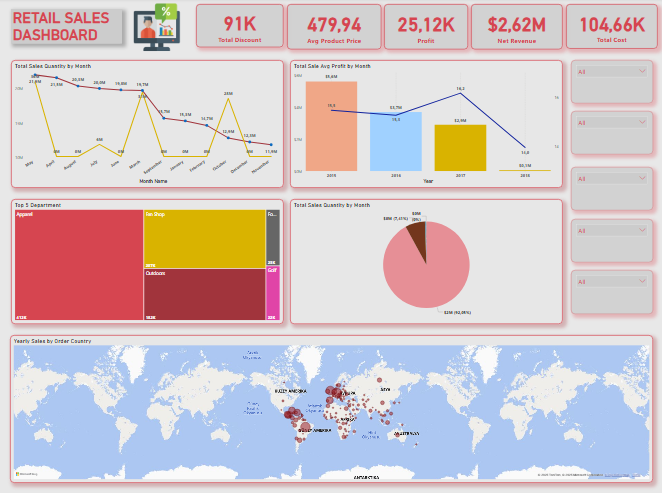

The page's visual inventory and layout, read from the dashboard file:
{"tool":"powerbi","page":{"name":"Sales","canvas":[1930,1450],"ordinal":1},"visuals":[{"type":"textbox","title":"RETAIL SALES DASHBOARD","box":[37,33.3,322.2,100],"z":0},{"type":"card","fields":{"Values":["_Measures.Total Discount"]},"box":[574.3,17.1,254.3,125.7],"z":1000},{"type":"card","fields":{"Values":["_Measures.Avg Product Price"]},"box":[838,18,274,132],"z":2000},{"type":"card","fields":{"Values":["_Measures.Profit"]},"box":[1120,18,244,132],"z":3000},{"type":"card","fields":{"Values":["_Measures.Net Revenue"]},"box":[1372,18,266,132],"z":4000},{"type":"slicer","fields":{"Values":["income_2024.category_name"]},"box":[1661.5,328.2,238.5,125.6],"z":5000},{"type":"slicer","fields":{"Values":["income_2024.order_country"]},"box":[1661.5,489.7,238.5,125.6],"z":6000},{"type":"slicer","fields":{"Values":["income_2024.customer_segment"]},"box":[1661.5,641,238.5,125.6],"z":7000},{"type":"slicer","fields":{"Values":["Calendar.Year"]},"box":[1661.5,179.5,238.5,125.6],"z":8000},{"type":"slicer","fields":{"Values":["income_2024.order_region"]},"box":[1661.5,789.7,238.5,128.2],"z":9000},{"type":"lineChart","title":"Total Sales Quantity by Month ","fields":{"Y":["_Measures.Total Sales2"],"Category":["Calendar.Month Name"],"Y2":["_Measures.Total Quantity"]},"box":[37.1,180,791.4,371.4],"z":10000},{"type":"lineClusteredColumnComboChart","title":"Total Sale Avg Profit by Month","fields":{"Category":["Calendar.Year"],"Y":["_Measures.Monthly Sale"],"Y2":["_Measures.Avg profit per Order"]},"box":[845.7,180,791.4,371.4],"z":11000},{"type":"treemap","title":"Top 5 Department","fields":{"Group":["income_2024.department_name"],"Values":["_Measures.Yearly Sales"]},"box":[37.1,582.9,791.4,362.9],"z":12000},{"type":"pieChart","title":"Total Sales Quantity by Month ","fields":{"Category":["Calendar.Year-Month"],"Y":["_Measures.Net Revenue"]},"box":[845.7,582.9,791.4,362.9],"z":13000},{"type":"map","title":"Yearly Sales by Order Country","fields":{"Category":["income_2024.order_country"],"Size":["_Measures.Yearly Sales"]},"box":[35.3,976.5,1864.7,429.4],"z":14000},{"type":"card","fields":{"Values":["_Measures.Total Cost"]},"box":[1646,18,266,130],"z":15000},{"type":"image","box":[311.1,7.4,300,151.9],"z":16000}]}

Visuals, with their boxes in screenshot pixels (x1, y1, x2, y2), scaled from the page's 1930x1450 canvas onto the 662x493 screenshot:
"RETAIL SALES DASHBOARD" textbox: 13/11/123/45
card - _Measures.Total Discount: 197/6/284/49
card - _Measures.Avg Product Price: 287/6/381/51
card - _Measures.Profit: 384/6/468/51
card - _Measures.Net Revenue: 471/6/562/51
slicer - income_2024.category_name: 570/112/652/154
slicer - income_2024.order_country: 570/166/652/209
slicer - income_2024.customer_segment: 570/218/652/261
slicer - Calendar.Year: 570/61/652/104
slicer - income_2024.order_region: 570/268/652/312
"Total Sales Quantity by Month " lineChart: 13/61/284/187
"Total Sale Avg Profit by Month" lineClusteredColumnComboChart: 290/61/562/187
"Top 5 Department" treemap: 13/198/284/322
"Total Sales Quantity by Month " pieChart: 290/198/562/322
"Yearly Sales by Order Country" map: 12/332/652/478
card - _Measures.Total Cost: 565/6/656/50
image: 107/3/210/54
